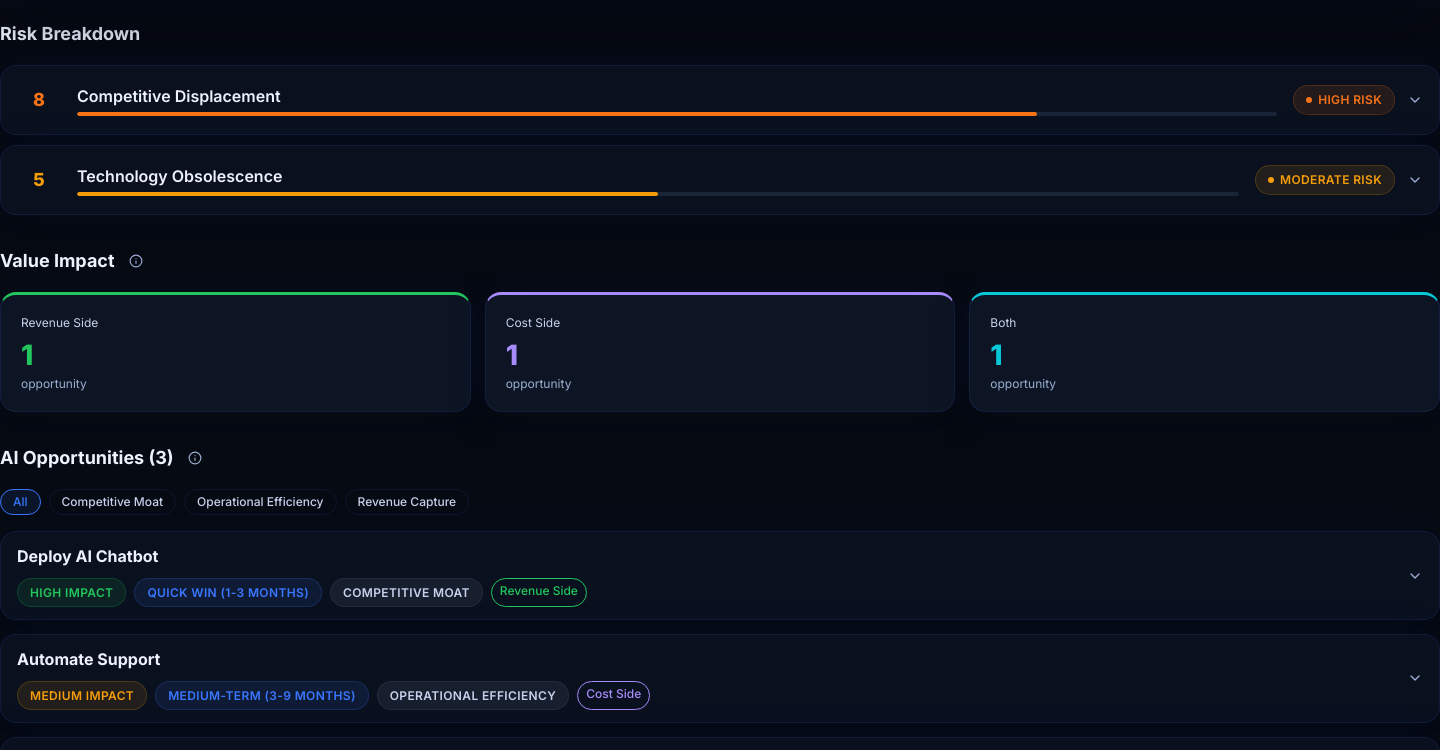
Test: AnalysisDetail — Value Lever › clicking active lever card resets filter to All
(page scrolled)
Click the button "Cost Side 1 opportunity".
click(533, 322)  # box [485, 292, 955, 412]
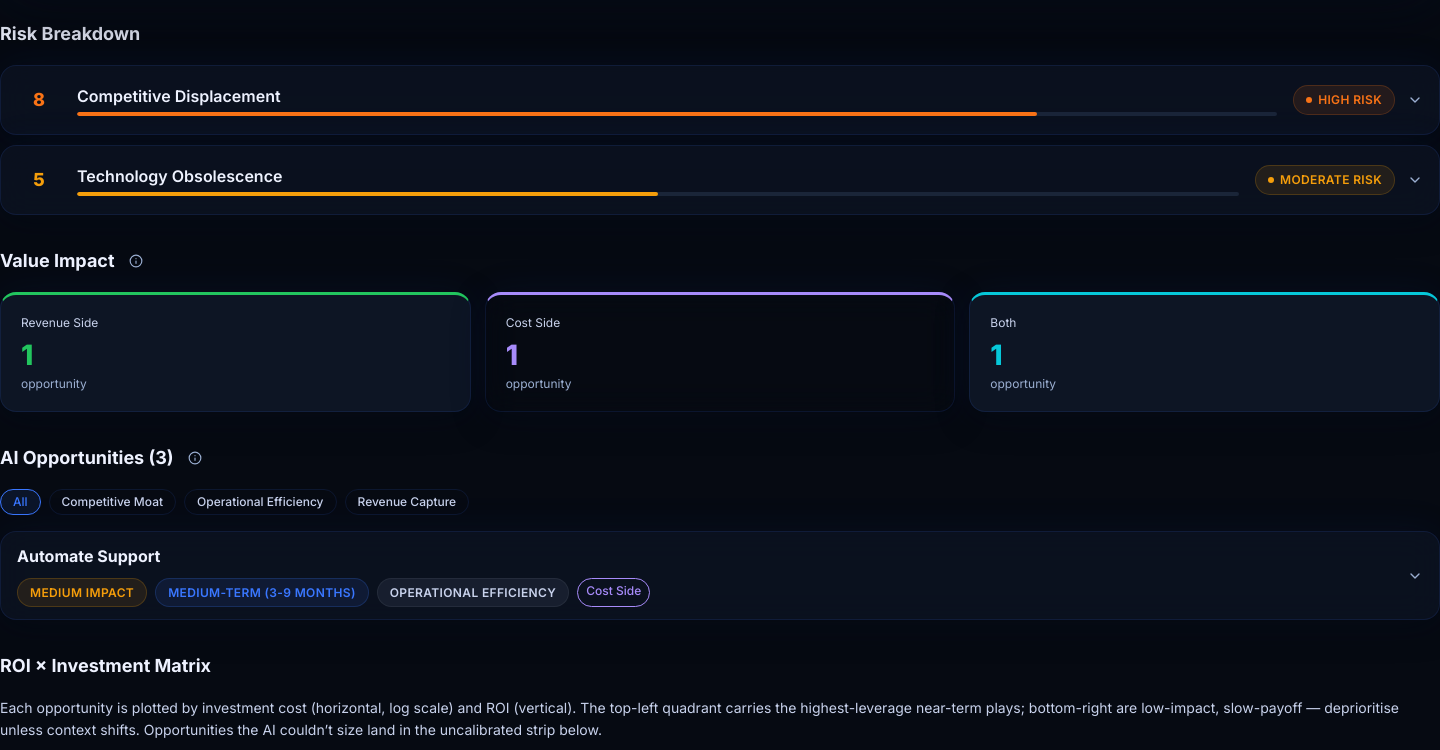
expect the text "Deploy AI Chatbot" is not shown: met
expect the text "Automate Support" is shown: met, box [17, 546, 160, 566]
# Click again to deselect
Click the button "Cost Side 1 opportunity".
click(533, 322)  # box [485, 292, 955, 412]
(page scrolled)
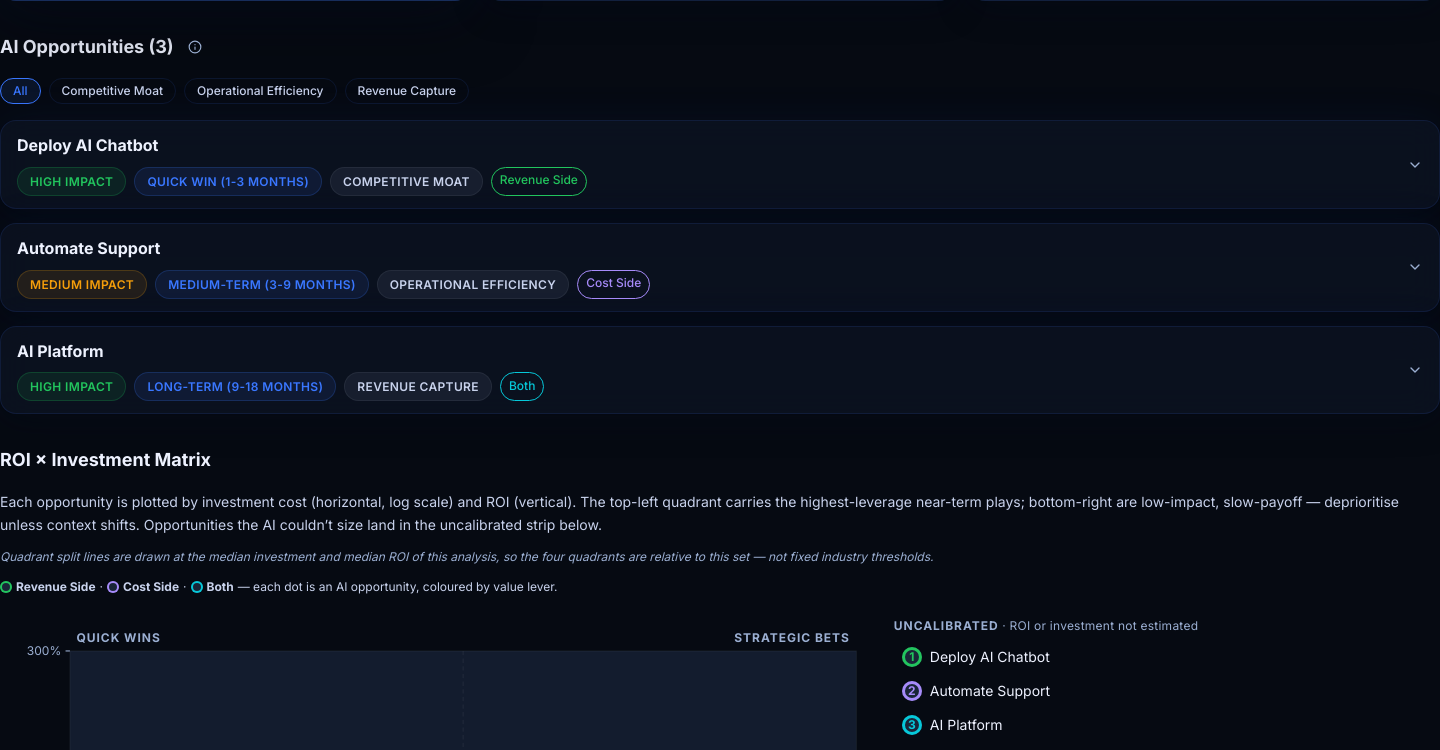
expect the 1st text "Automate Support" is shown: met, box [17, 238, 160, 258]
expect the 1st text "Deploy AI Chatbot" is shown: met, box [17, 135, 158, 155]
expect the 1st text "AI Platform" is shown: met, box [17, 341, 104, 361]
